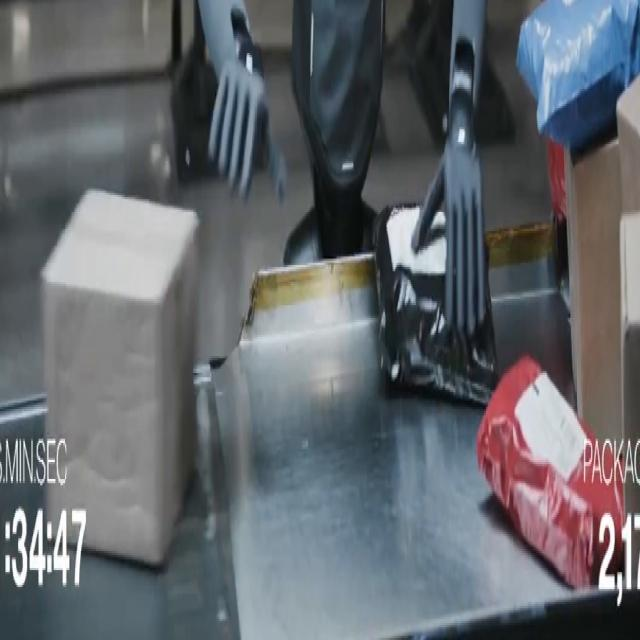package: (41, 191, 198, 565), (477, 357, 623, 589), (374, 204, 497, 404), (517, 0, 639, 148), (566, 140, 621, 440), (617, 79, 639, 514), (620, 212, 639, 517), (617, 79, 639, 211), (547, 140, 565, 222)
